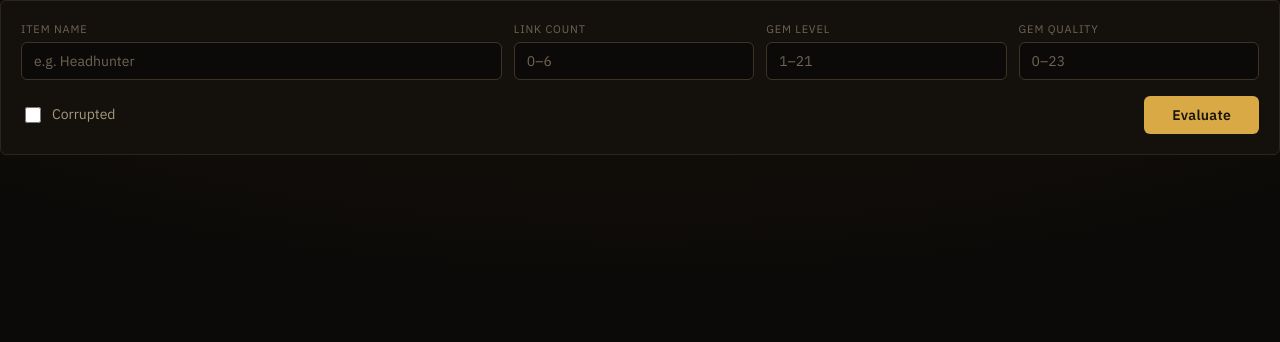
Scenario: InventoryEvaluator › shows a low-confidence warning when the response has lowConfidence: true
The image size is (1280, 342).
Type "Rare Synthesised Jewel" into the field labelled "Item name" at [261, 60], box [21,42,502,80]
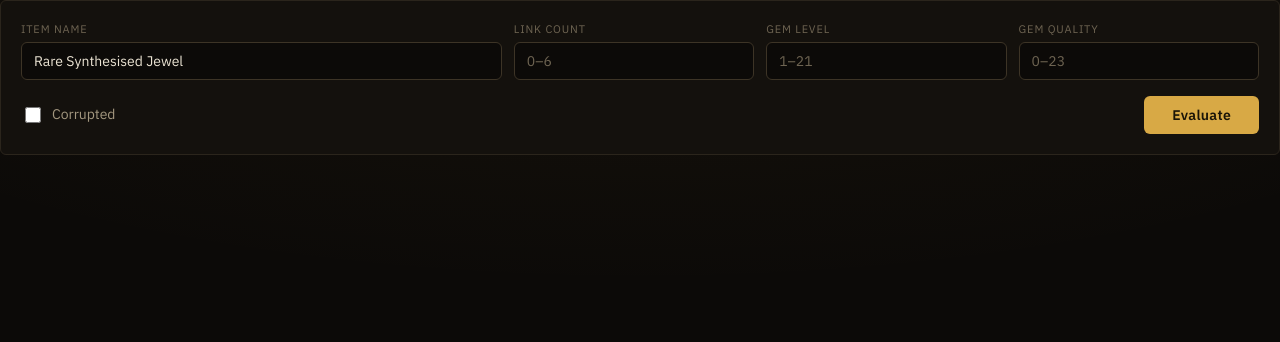
Click the button "Evaluate" at [1202, 114], box [1144,96,1259,134]
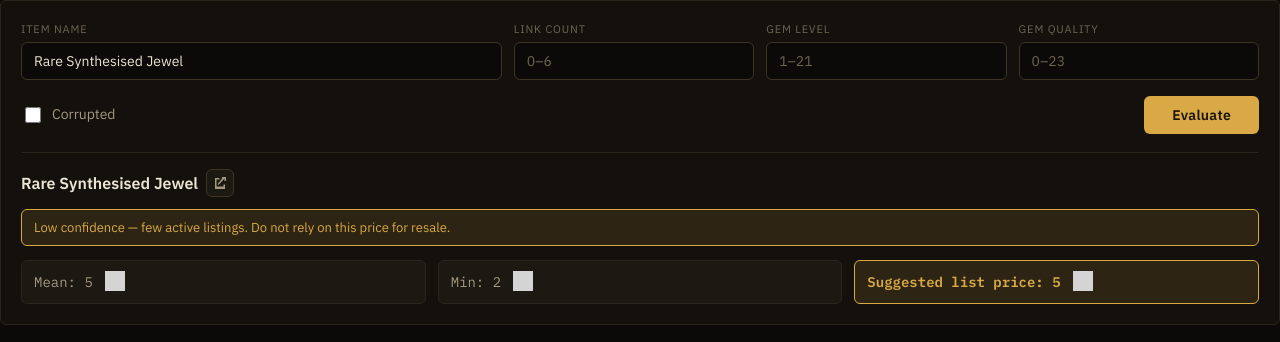
Result: the message reads "Low confidence — few active listings. Do not rely on this price for resale." at [34,218,450,236]
